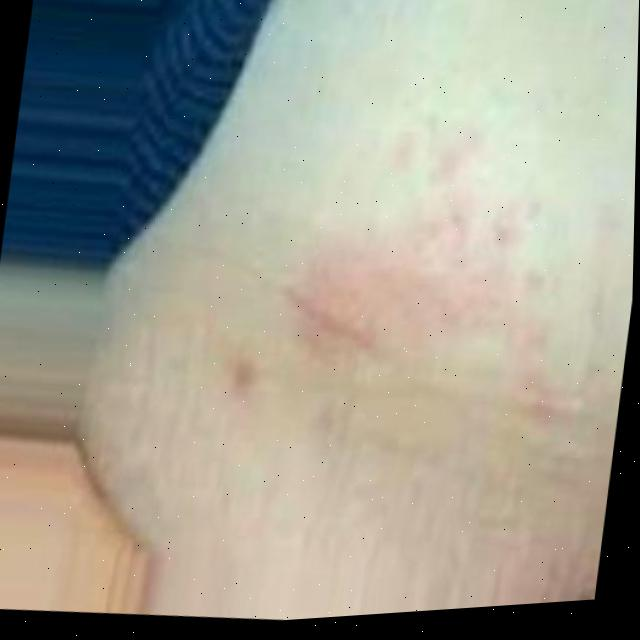Shingles: (280, 200, 527, 379)
